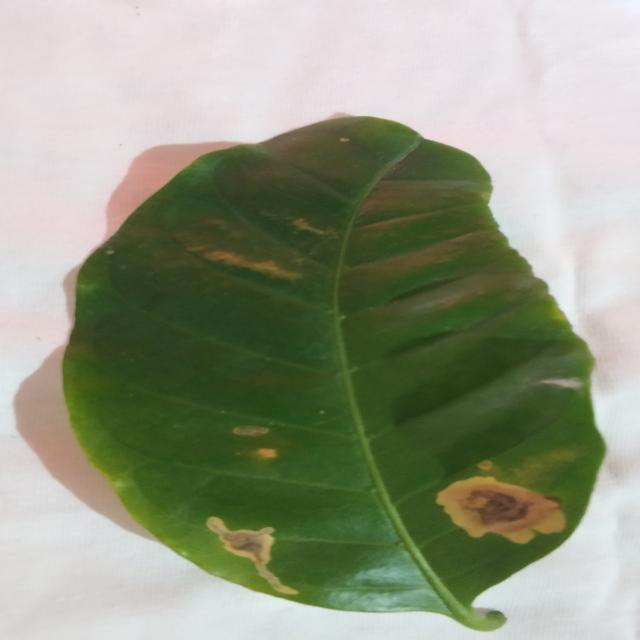Plaga-Minador: (57, 116, 609, 634)
